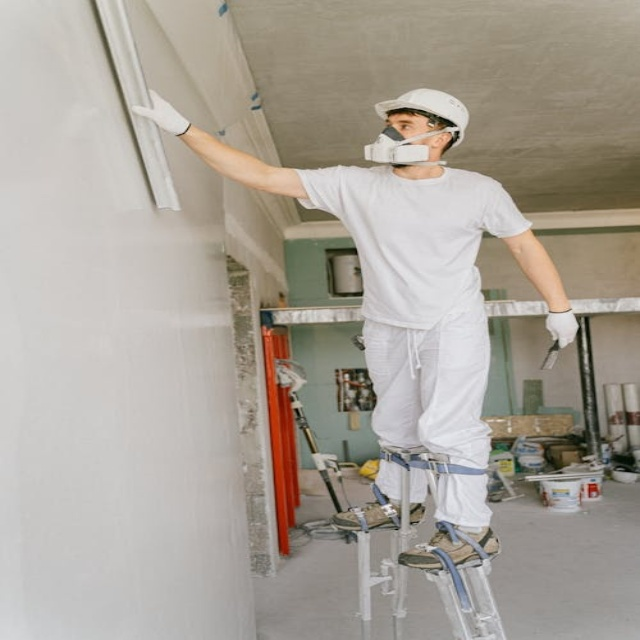Guantes: (130, 90, 192, 137), (545, 309, 579, 349)
Mascara: (364, 124, 451, 166)
Sin_gafas: (380, 115, 431, 134)
